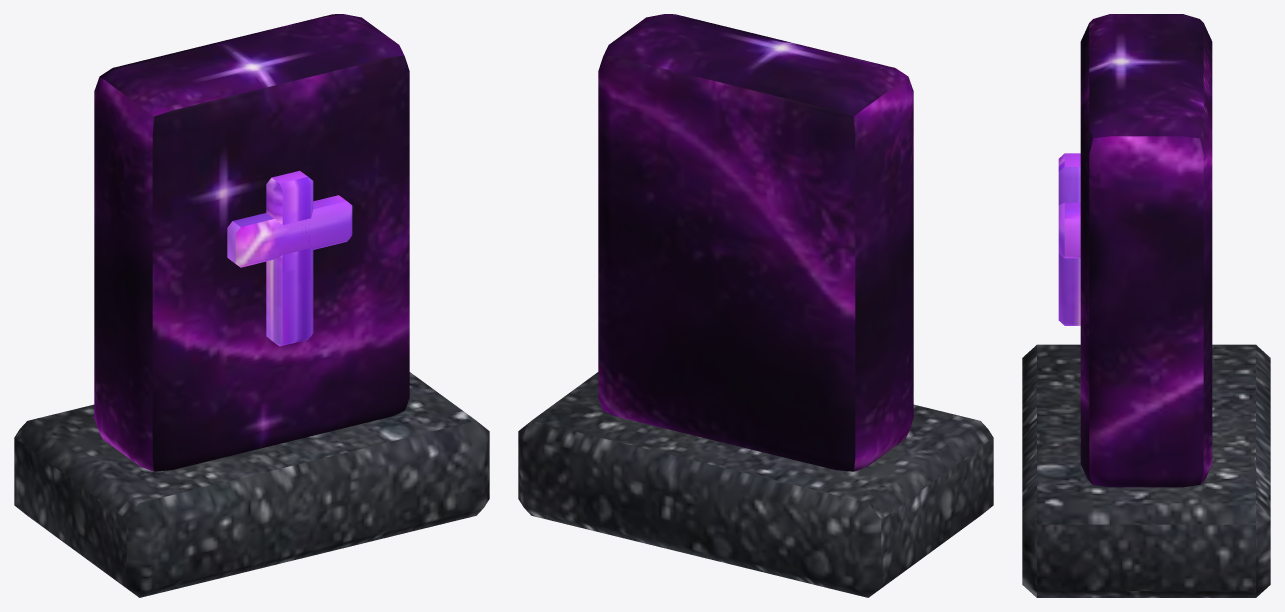
File: deco_sombrio_hito.glb
3 renders of one model, left to right at view 1: azimuth 30°, elevation 25°; view 2: azimuth 150°, elevation 25°; view 3: azimuth 270°, elevation 25°, orthographic. The views are drawn at different scales.
Visible parts, largest first — view 1: deco_sombrio_hito; view 2: deco_sombrio_hito; view 3: deco_sombrio_hito.
Boxes of the visible parts, x1,y1,x2,y2 form: deco_sombrio_hito: (14, 14, 489, 597); deco_sombrio_hito: (518, 14, 993, 597); deco_sombrio_hito: (1022, 14, 1270, 597).
Size of the model in its own units: 0.8235 by 1 by 0.5.
Materials: 3 (3 with a texture image).
